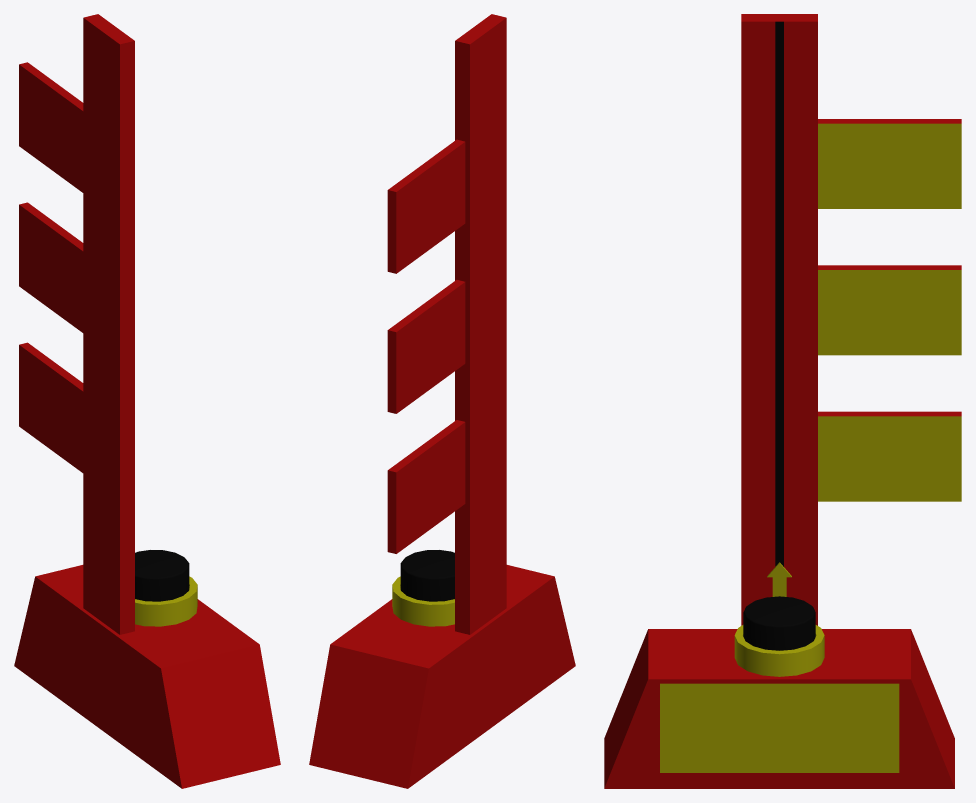
File: SM_StrengthTester.fbx
3 renders of one model, left to right at view 1: azimuth 30°, elevation 25°; view 2: azimuth 150°, elevation 25°; view 3: azimuth 270°, elevation 25°, orthographic. The views are drawn at different scales.
Parts seen in each view (by area): view 1: strengthTester; view 2: strengthTester; view 3: strengthTester.
Boxes of the visible parts, bbox=[...] form: strengthTester: bbox=[14, 14, 280, 788]; strengthTester: bbox=[309, 14, 575, 788]; strengthTester: bbox=[604, 14, 961, 788].
Size of the model in its own units: 0.7261 by 4.89 by 2.18.
